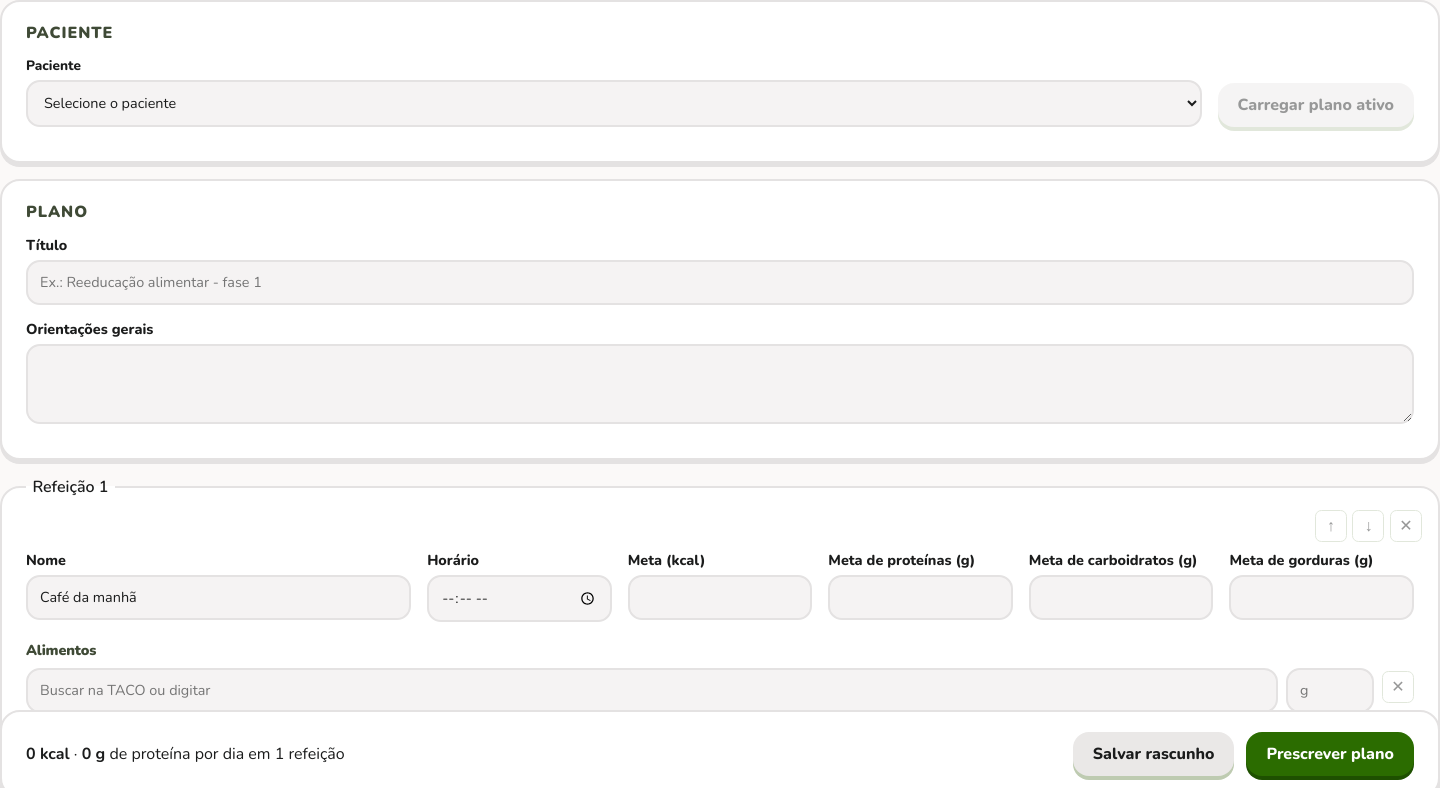
PlanBuilderPage - validacao › depois da primeira tentativa, corrigir o campo tira o erro
The width and height of the screenshot is (1440, 788).
Step 1. Click the button "Prescrever plano" → x=1330, y=754, box [1246, 732, 1414, 776]
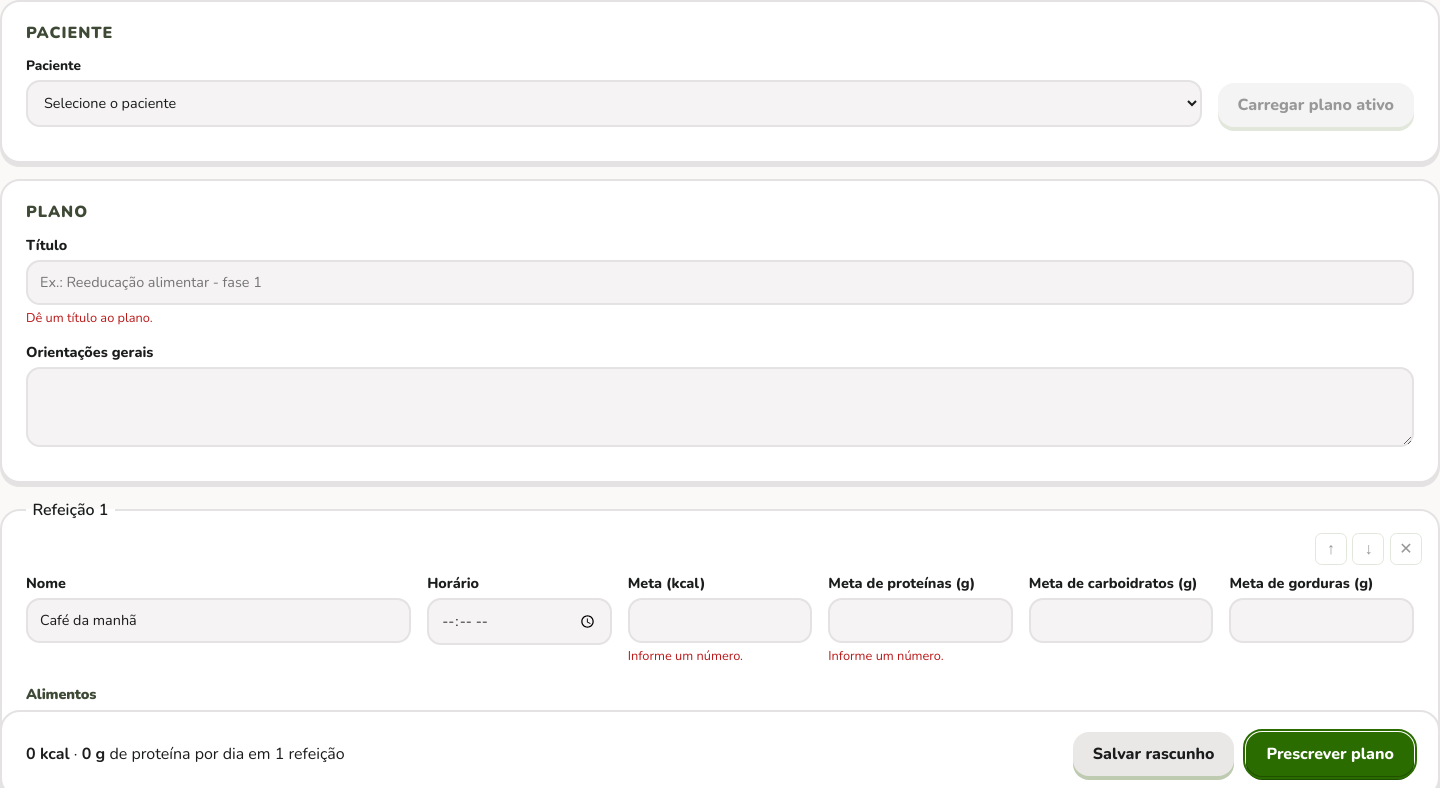
Expected: the text "Dê um título ao plano." is shown, [26, 309, 153, 327]
Step 2. Type "Fase 1" into the field labelled "Título Dê um título ao plano." → x=720, y=282, box [26, 260, 1414, 305]
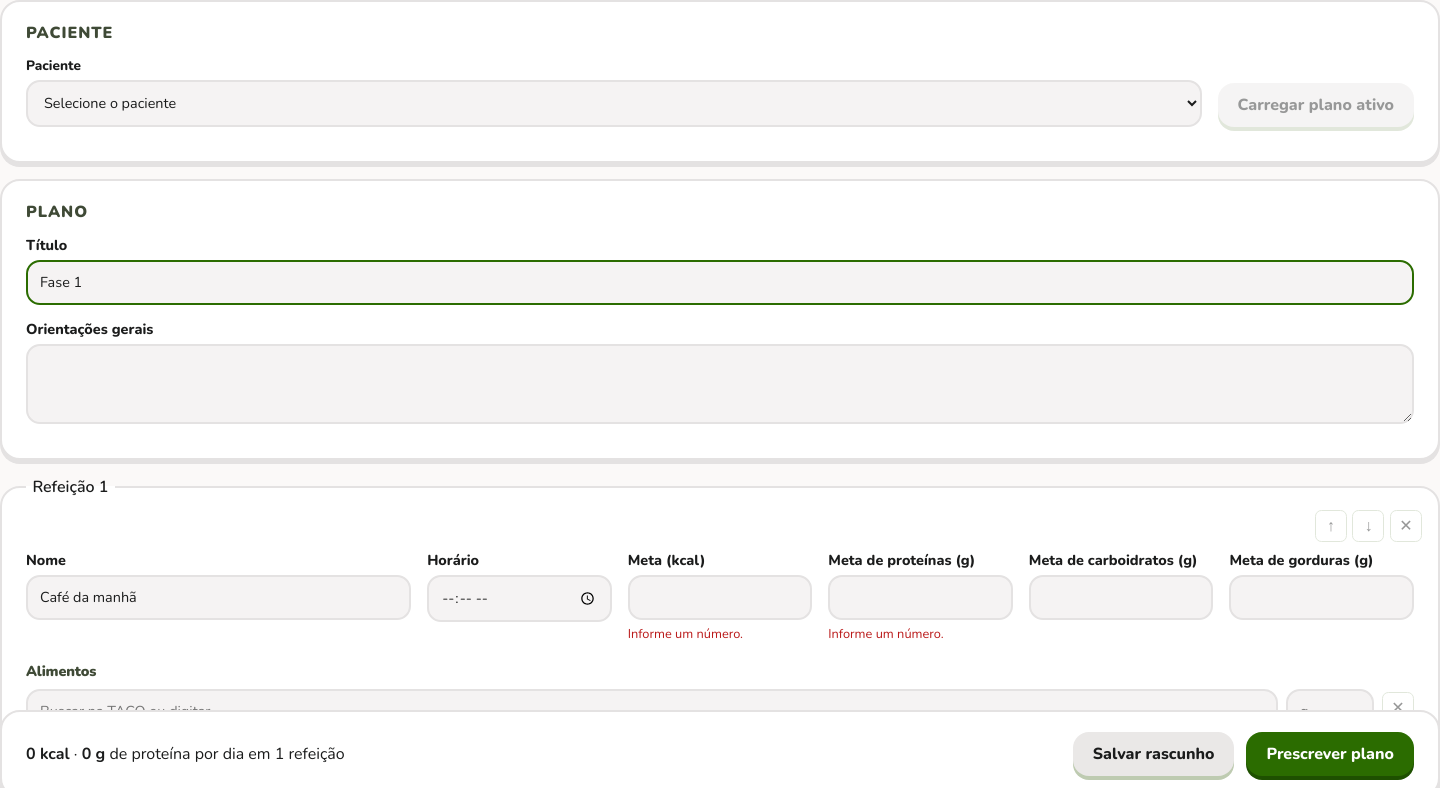
Expected: the text "Dê um título ao plano." is gone
